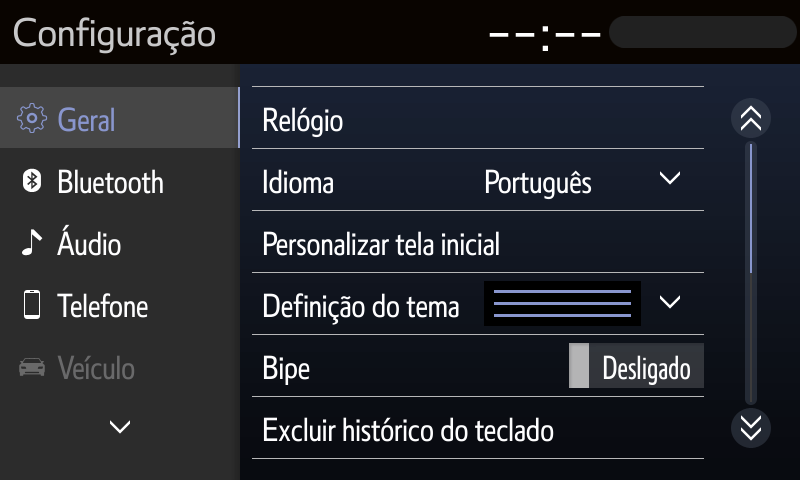touchPart: (250, 203, 710, 281), (250, 329, 714, 403), (250, 81, 711, 155), (250, 392, 711, 465), (251, 269, 705, 341), (249, 145, 708, 216), (16, 163, 185, 202), (15, 216, 133, 268), (14, 283, 153, 326), (725, 410, 774, 452), (724, 99, 776, 137), (99, 409, 139, 443)
untouchPart: (1, 82, 242, 152), (472, 9, 792, 58), (5, 11, 218, 54), (10, 350, 148, 382)
